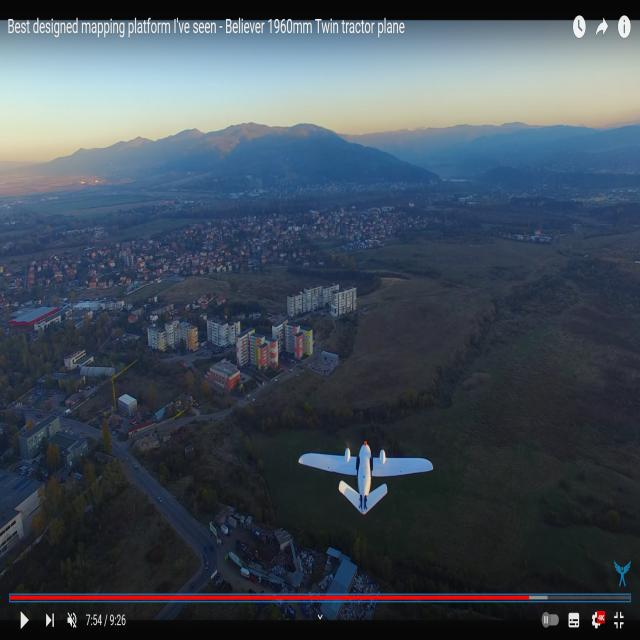iha: (301, 480, 429, 483)
